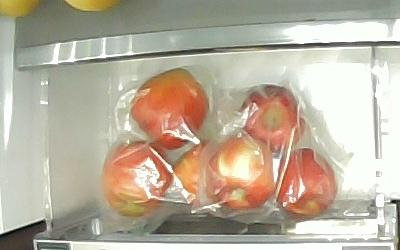apple_vinyl: (128, 66, 209, 150), (100, 138, 175, 217), (204, 132, 277, 210), (237, 83, 304, 151), (274, 146, 338, 217), (170, 137, 215, 209)
